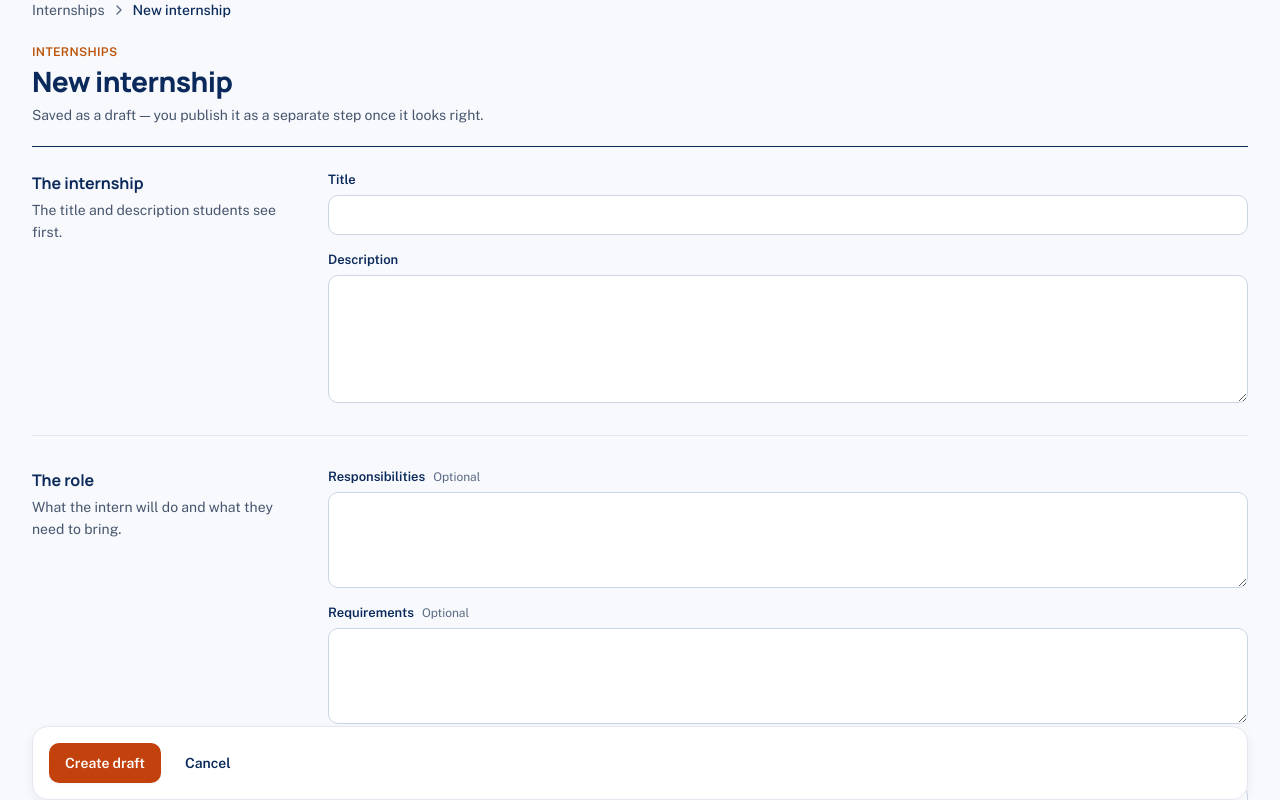
Test: CreateOpportunityPage › rejects an end date that is not after the start date
Type "Backend Intern" into the field labelled "Title" at (788, 215), box [328, 195, 1248, 235]
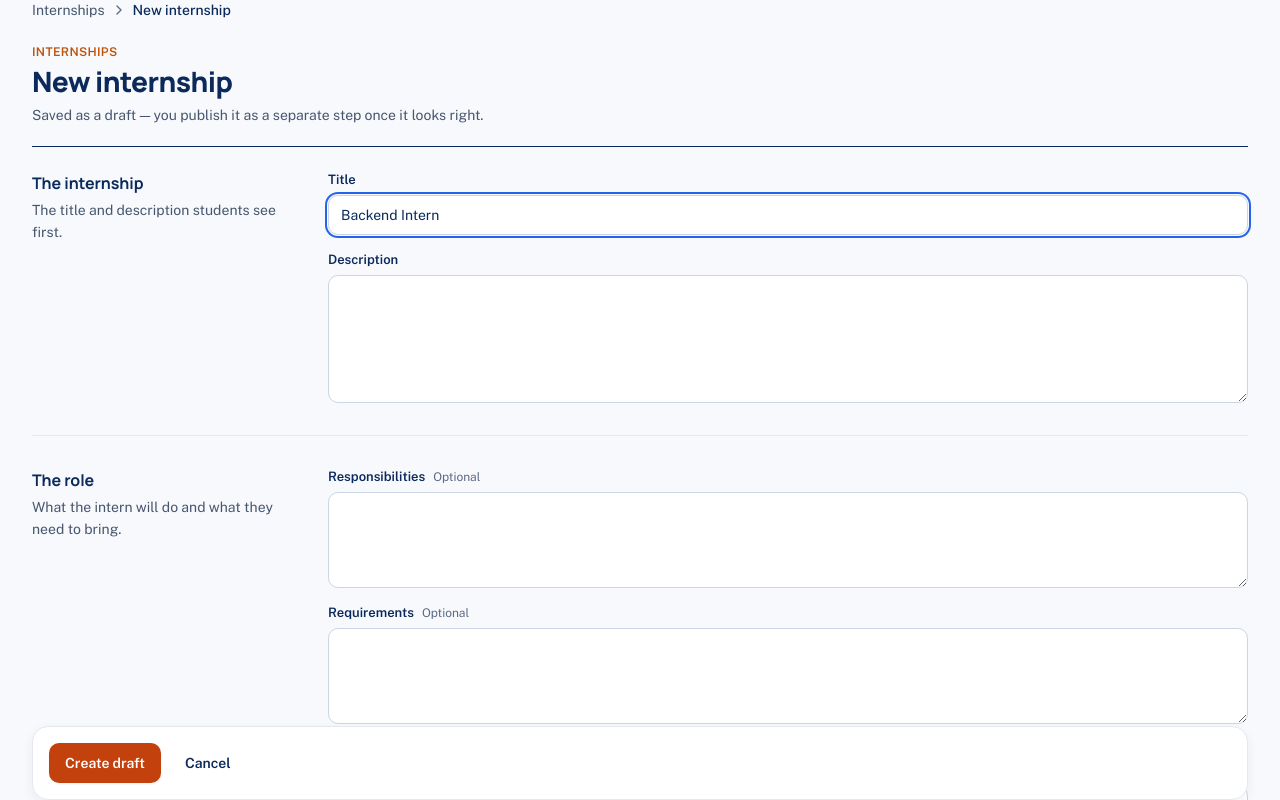
Type "Work on the API." into the text box labelled "Description" at (788, 339), box [328, 275, 1248, 403]
(page scrolled)
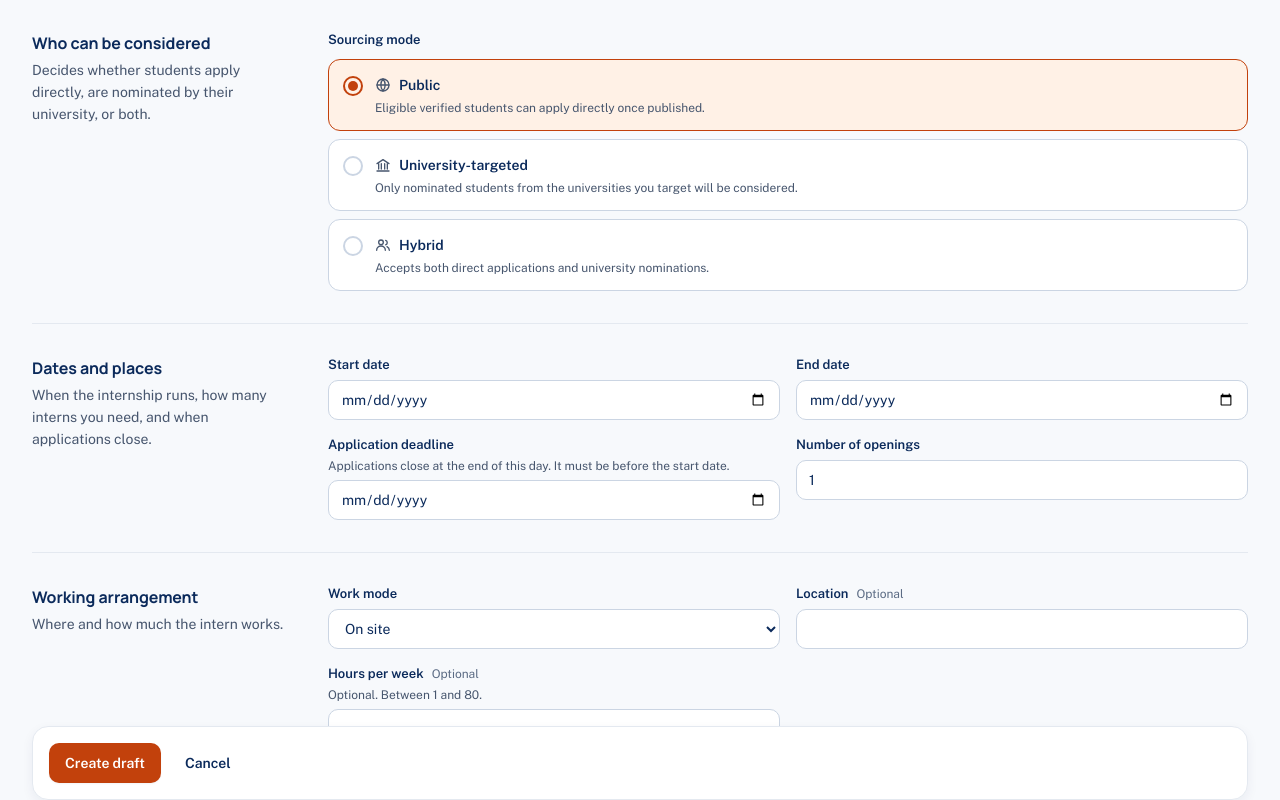
Type "2027-06-01" into the date field labelled "Start date" at (554, 400), box [328, 380, 780, 420]
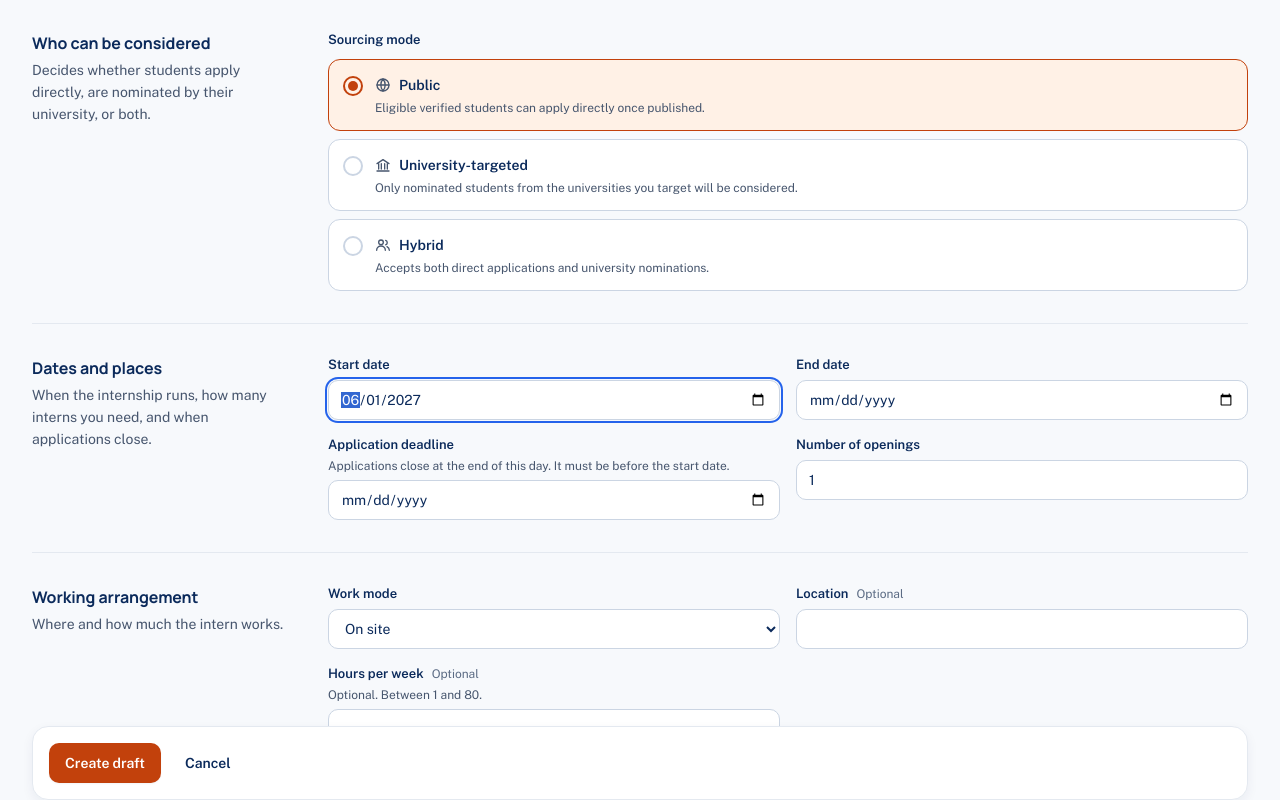
Type "2027-03-01" into the date field labelled "End date" at (1022, 400), box [796, 380, 1248, 420]
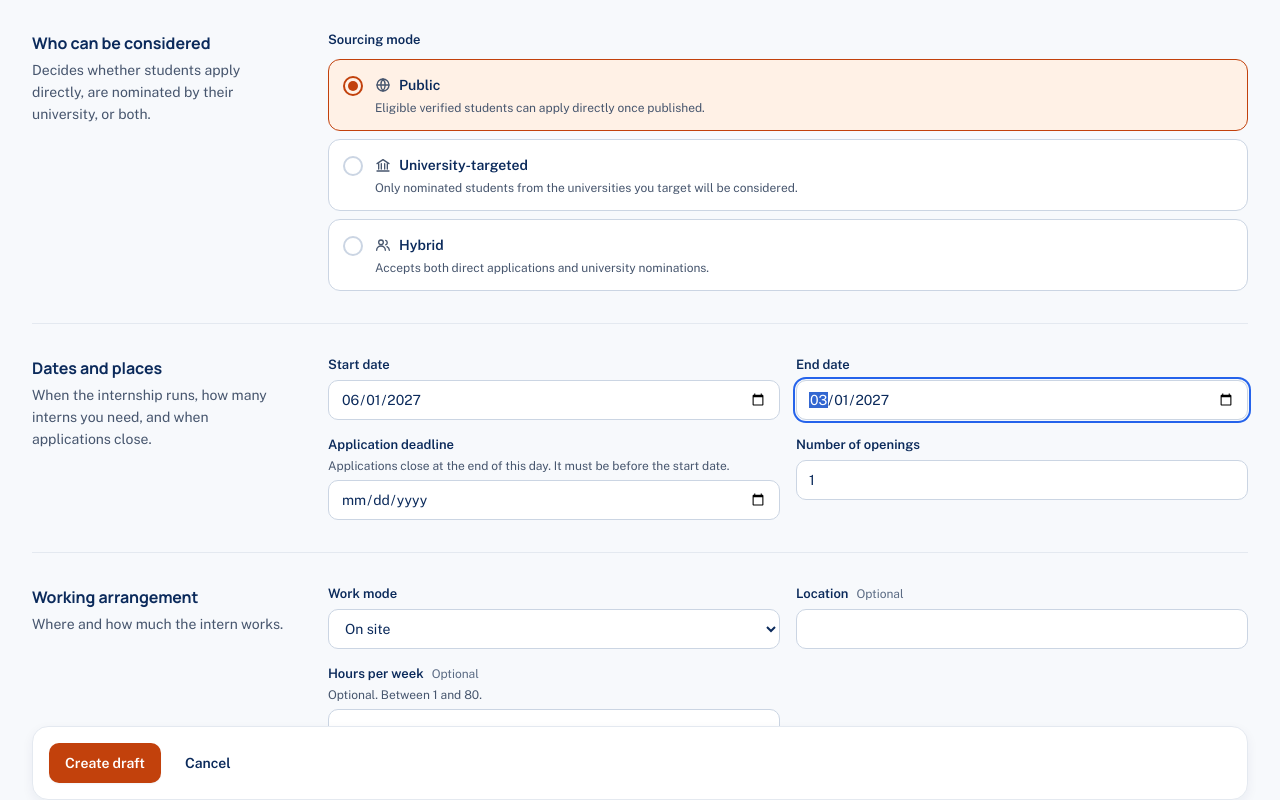
Type "2027-05-01" into the date field labelled "Application deadline" at (554, 500), box [328, 480, 780, 520]
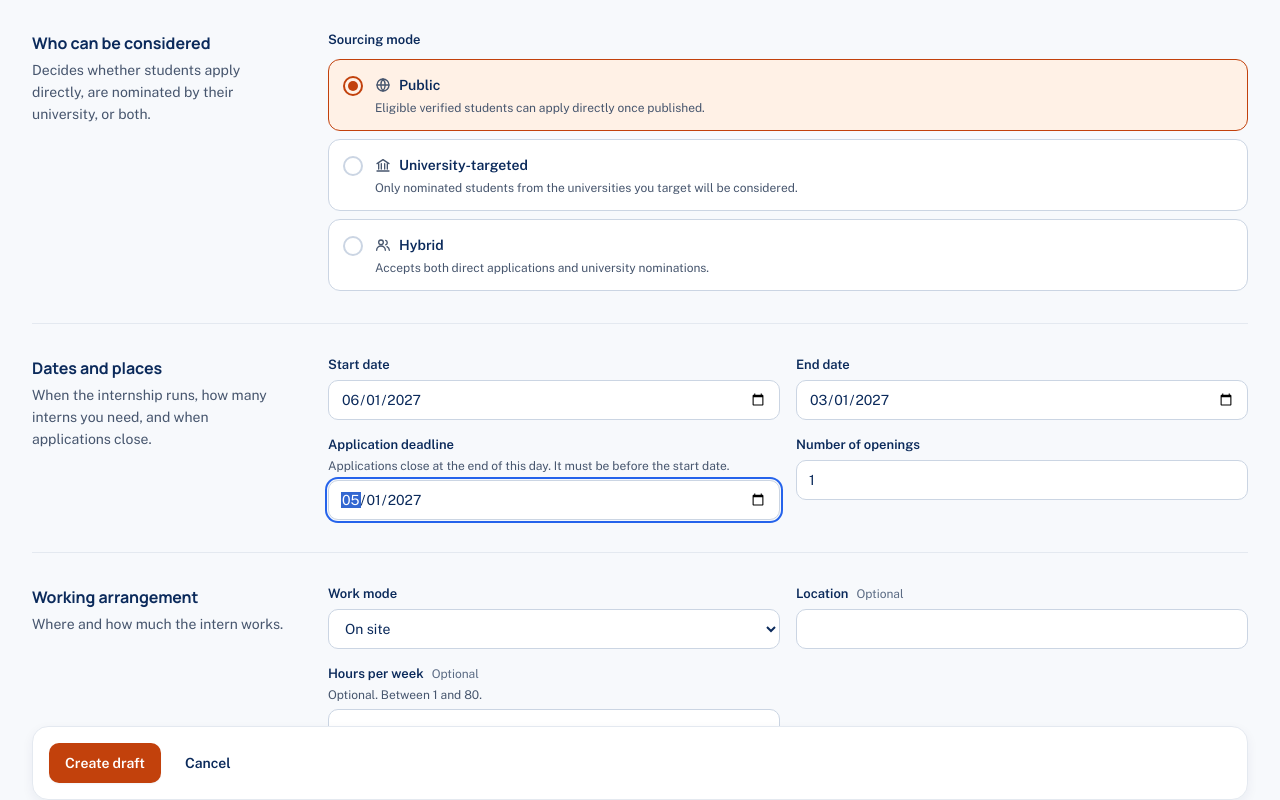
Click the button "Create draft" at (105, 763), box [49, 743, 161, 783]
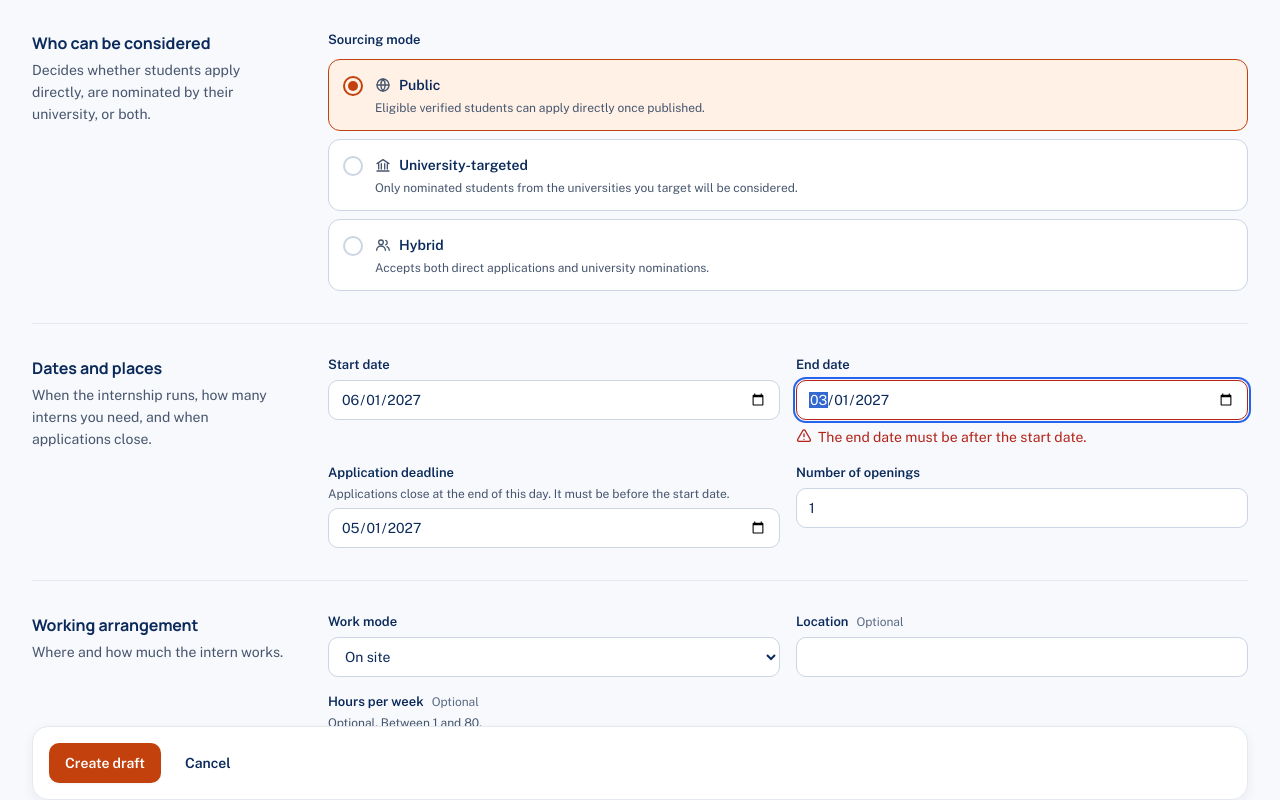
Now the text "The end date must be after the start date." is shown, box [796, 428, 1086, 445]
